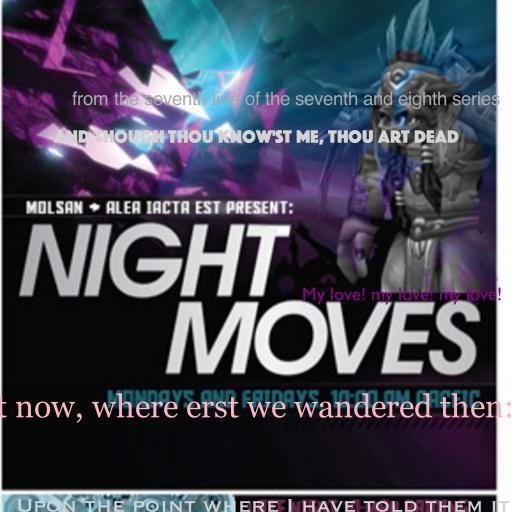Big Caslon: (72, 91, 500, 110)
Copperplate: (16, 499, 510, 512)
Georgia: (0, 393, 512, 423)
Gill Sans: (302, 287, 502, 305)
Phosphate: (53, 129, 459, 145)
